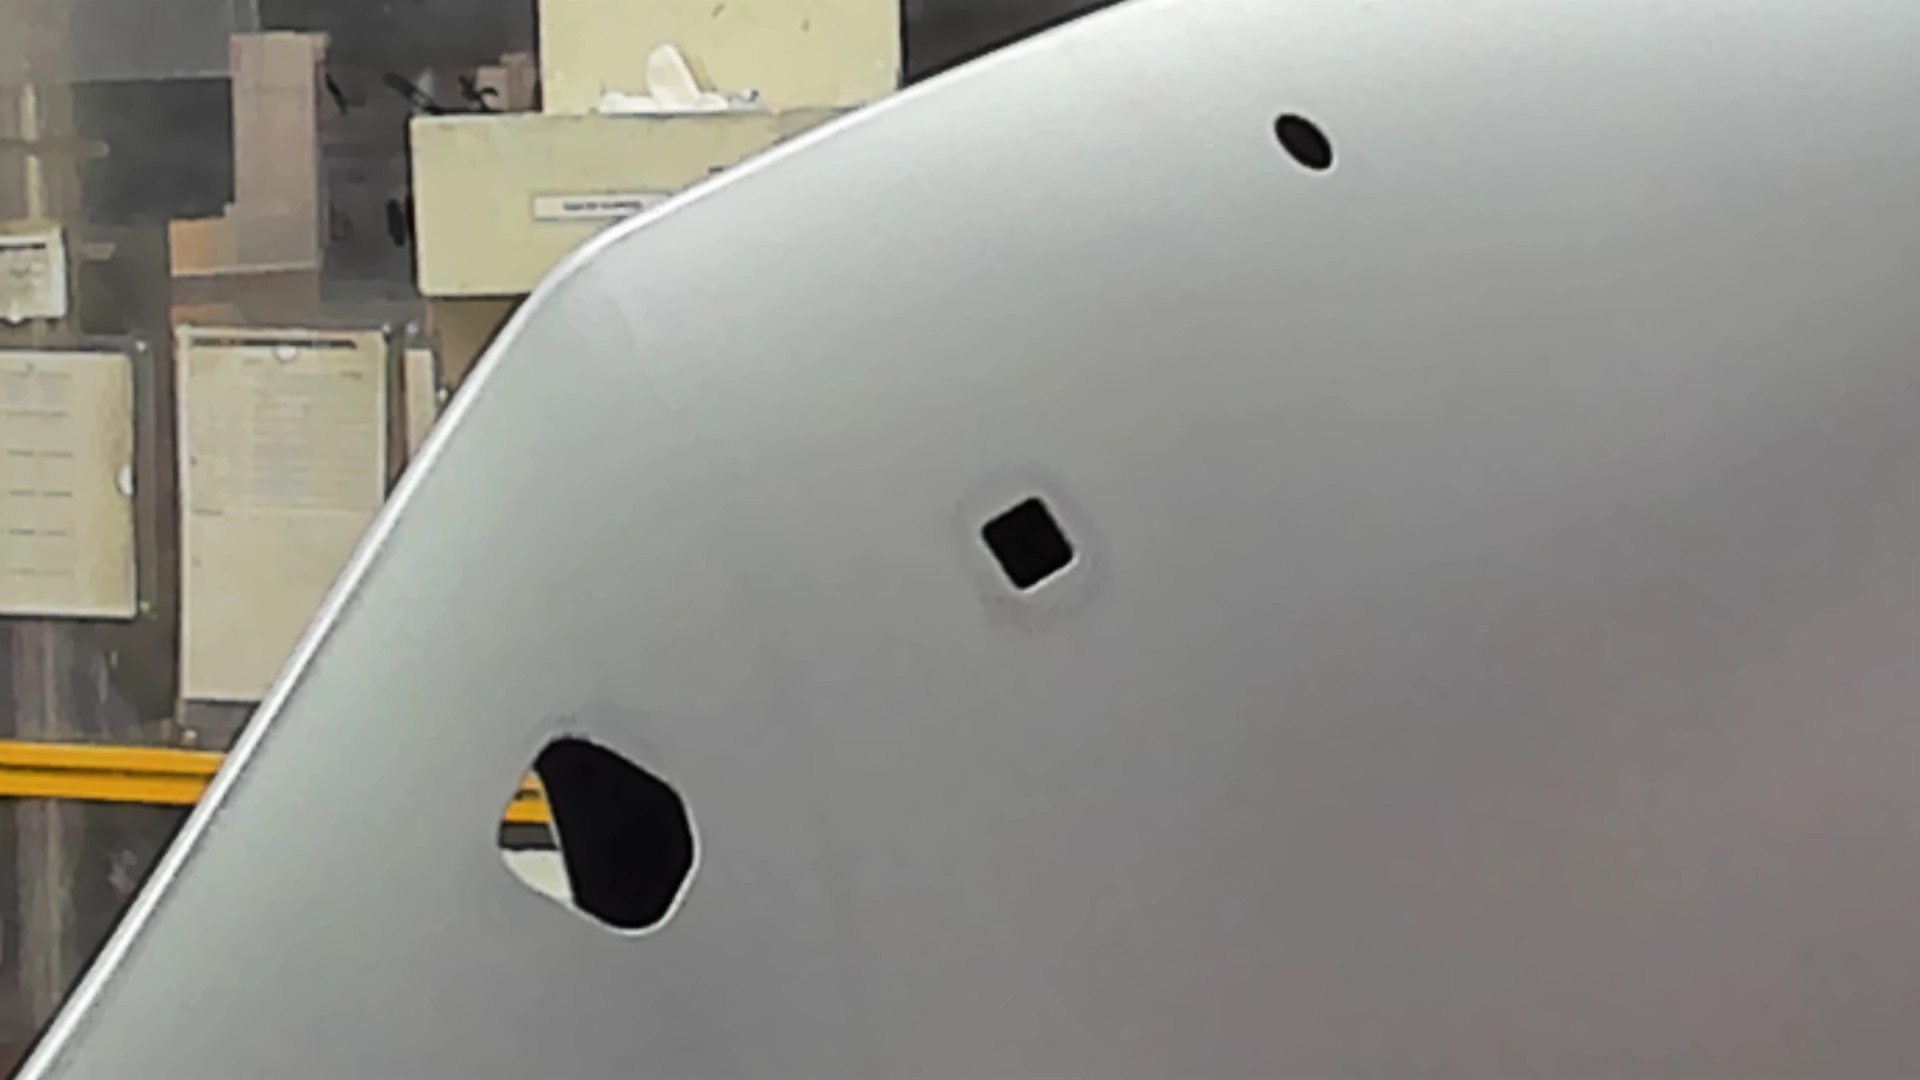chico: (1269, 108, 1338, 175)
grande: (489, 724, 707, 942)
mediano: (977, 487, 1083, 597)
